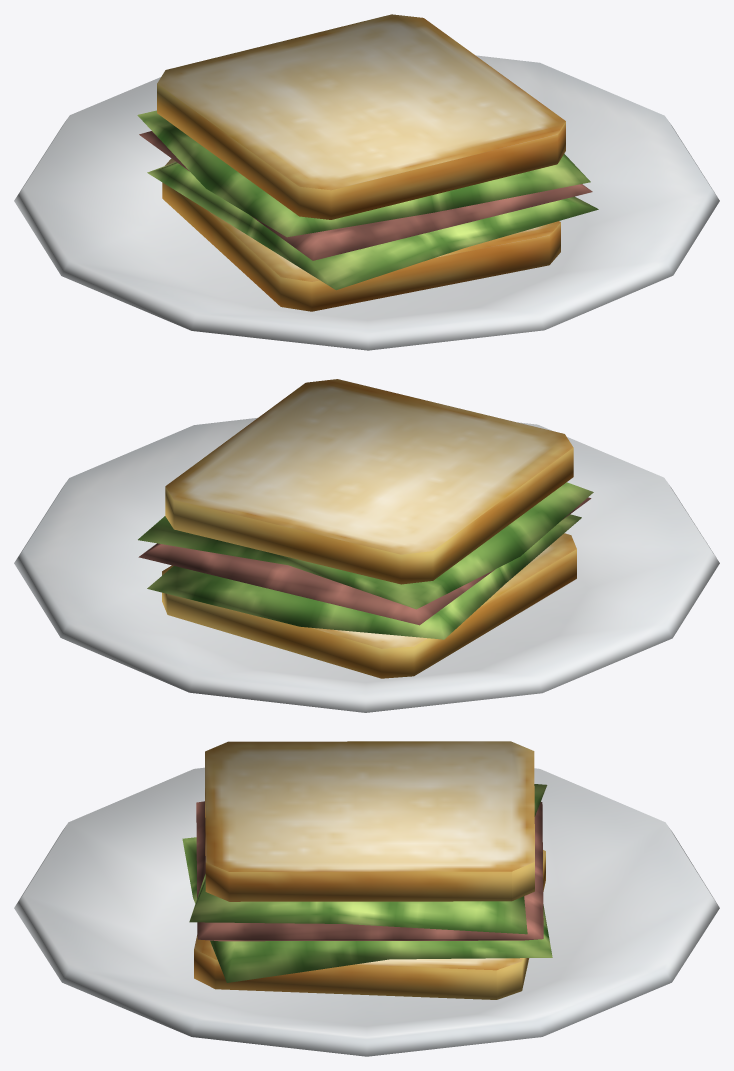
Rendered from SiWangPenQuan_01_sanmingzhi_01.FBX.
3 views of the same model, one above another, from view 1: azimuth 30°, elevation 25°; view 2: azimuth 150°, elevation 25°; view 3: azimuth 270°, elevation 25° (orthographic).
Parts seen in each view (by area): view 1: SiWangPenQuan_01_sanmingzhi_01; view 2: SiWangPenQuan_01_sanmingzhi_01; view 3: SiWangPenQuan_01_sanmingzhi_01.
Boxes of the visible parts, x1,y1,x2,y2 form: SiWangPenQuan_01_sanmingzhi_01: (14, 14, 719, 350); SiWangPenQuan_01_sanmingzhi_01: (14, 379, 719, 712); SiWangPenQuan_01_sanmingzhi_01: (14, 741, 719, 1056).
Size of the model in its own units: 159 by 35.35 by 159.
